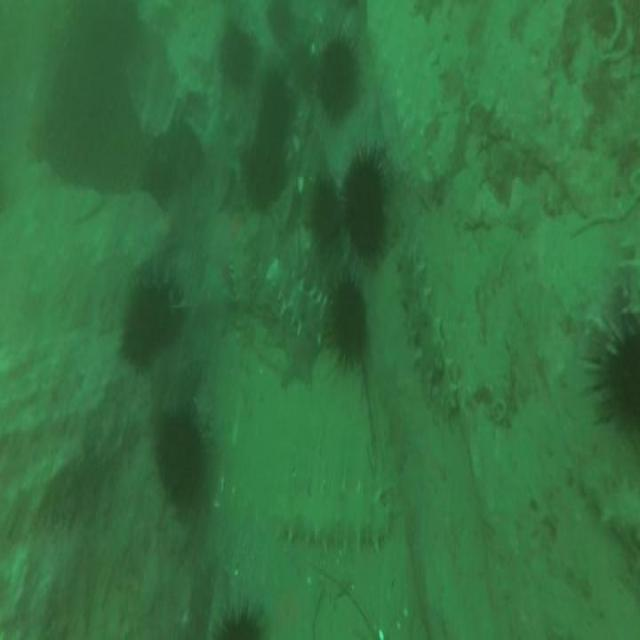echinus: (156, 416, 204, 506), (125, 289, 184, 362), (342, 154, 388, 244), (316, 41, 361, 115), (333, 280, 367, 365), (239, 142, 285, 204), (144, 140, 177, 200), (223, 28, 256, 86), (308, 185, 338, 246), (261, 74, 291, 130), (268, 6, 292, 44)
holothurian: (394, 255, 459, 412), (279, 485, 389, 552), (575, 457, 640, 539), (268, 261, 328, 343), (228, 234, 254, 311)
starfish: (258, 567, 322, 640)
